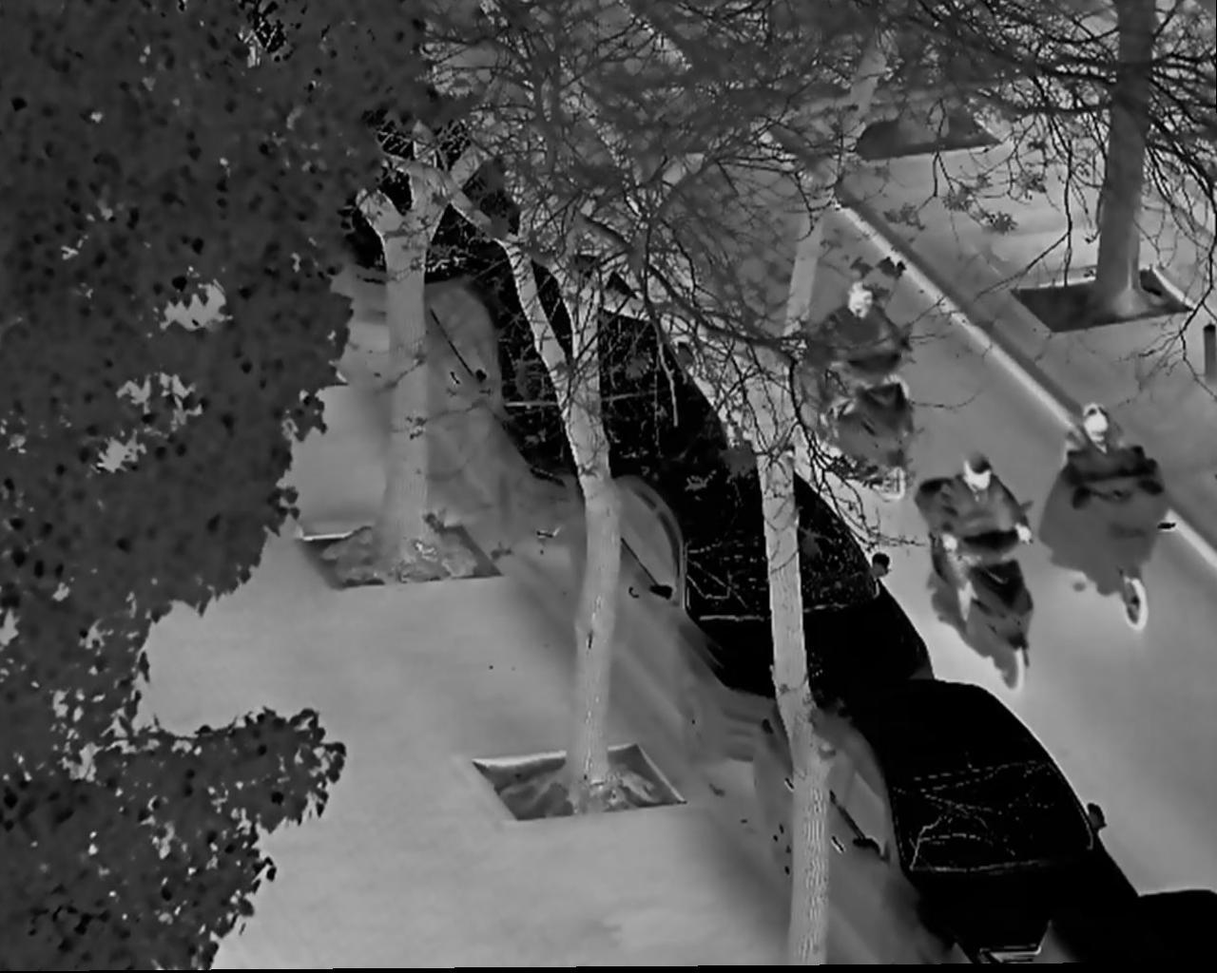person: (935, 455, 1040, 619), (820, 280, 919, 437), (1064, 400, 1162, 556)
